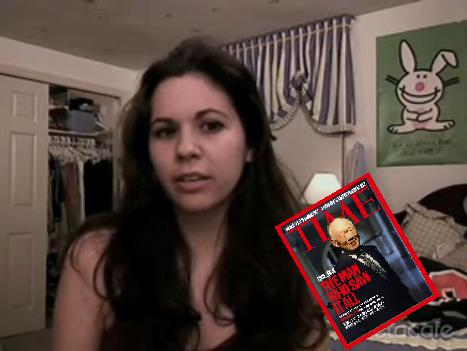times: (274, 169, 439, 349)
